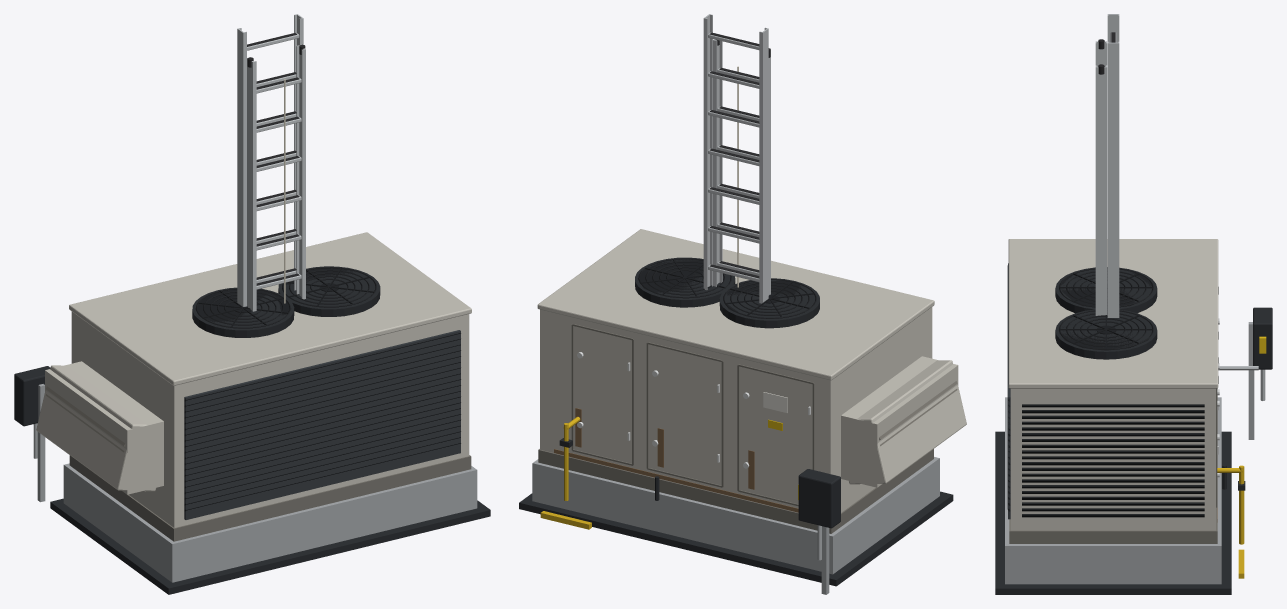
The model's file is rooftop-kit.glb.
The picture shows the model from 3 angles, left to right: view 1: azimuth 30°, elevation 25°; view 2: azimuth 150°, elevation 25°; view 3: azimuth 270°, elevation 25°; orthographic projection.
Parts seen in each view (by area): view 1: rtu, rtu-lod, ladder-fly, ladder-base; view 2: rtu, rtu-lod, ladder-base, ladder-fly; view 3: rtu, rtu-lod, ladder-base, ladder-fly.
Boxes of the visible parts, x1=… form: rtu: x1=14, y1=232, x2=490, y2=594; rtu-lod: x1=45, y1=233, x2=469, y2=527; ladder-fly: x1=247, y1=44, x2=305, y2=311; ladder-base: x1=237, y1=14, x2=303, y2=306; rtu: x1=519, y1=229, x2=966, y2=594; rtu-lod: x1=540, y1=233, x2=958, y2=512; ladder-base: x1=703, y1=14, x2=768, y2=303; ladder-fly: x1=713, y1=39, x2=770, y2=295; rtu: x1=995, y1=239, x2=1272, y2=594; rtu-lod: x1=1008, y1=240, x2=1215, y2=530; ladder-base: x1=1107, y1=14, x2=1119, y2=317; ladder-fly: x1=1095, y1=39, x2=1107, y2=315.
Bounding box in the file's own units: 2.88 × 3.8 × 1.96.
